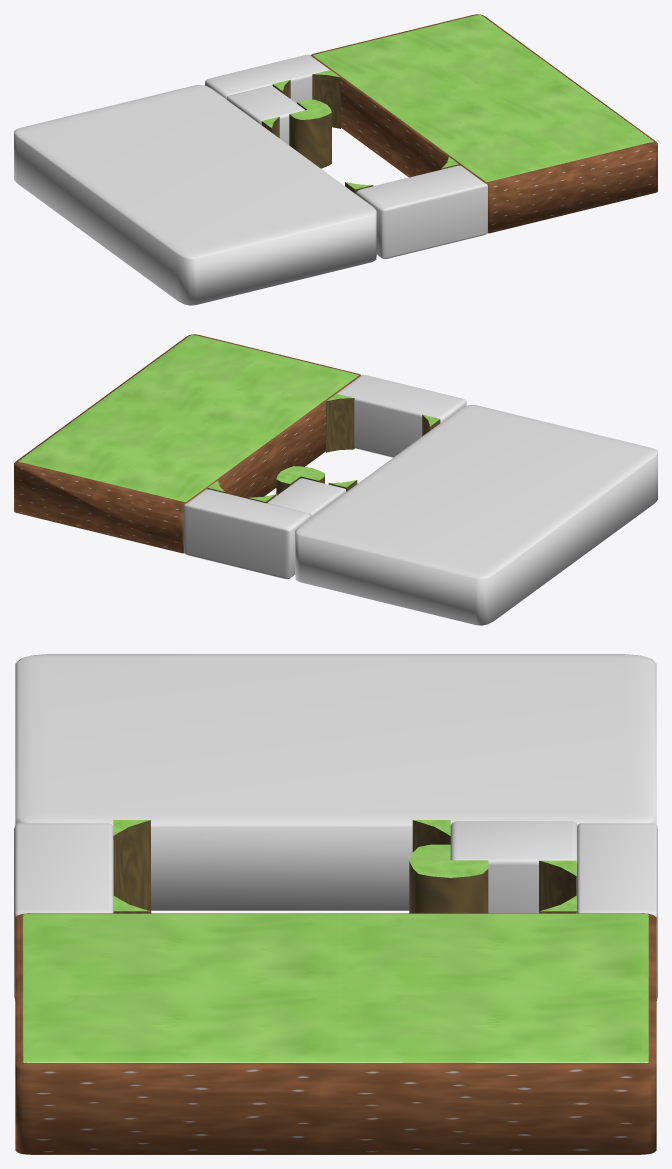
Rendered from LakeAreaPiecedTogether.fbx.
3 renders of one model, top to bottom at view 1: azimuth 30°, elevation 25°; view 2: azimuth 150°, elevation 25°; view 3: azimuth 270°, elevation 25°, orthographic. The views are drawn at different scales.
Visible parts, largest first — view 1: PlatformCubeV2.002, PlatformSmoothLedgeV2, PlatformCubeV2.001, PlatformCubeV2, OuterCorner, PlatformCubeV2.003, Corner; view 2: PlatformCubeV2.002, PlatformSmoothLedgeV2, PlatformCubeV2, PlatformCubeV2.001, PlatformCubeV2.003, Corner.001, OuterCorner; view 3: PlatformSmoothLedgeV2, PlatformCubeV2.002, PlatformCubeV2.001, PlatformCubeV2.003, PlatformCubeV2, OuterCorner, Corner.004, Corner.002, Corner.003.
Part boxes in pixels (box(x1,y1,x2,y2)): PlatformCubeV2.002: box(14, 85, 376, 305); PlatformSmoothLedgeV2: box(311, 14, 657, 233); PlatformCubeV2.001: box(356, 165, 487, 258); PlatformCubeV2: box(205, 54, 329, 103); OuterCorner: box(289, 99, 331, 168); PlatformCubeV2.003: box(226, 85, 304, 144); Corner: box(312, 70, 340, 128); PlatformCubeV2.002: box(295, 405, 657, 625); PlatformSmoothLedgeV2: box(14, 334, 360, 553); PlatformCubeV2: box(183, 489, 310, 579); PlatformCubeV2.001: box(337, 375, 466, 457); PlatformCubeV2.003: box(267, 478, 346, 517); Corner.001: box(326, 393, 354, 452); OuterCorner: box(276, 466, 324, 495); PlatformSmoothLedgeV2: box(15, 913, 656, 1154); PlatformCubeV2.002: box(15, 654, 656, 910); PlatformCubeV2.001: box(14, 823, 113, 1000); PlatformCubeV2.003: box(450, 821, 577, 913); PlatformCubeV2: box(577, 823, 657, 1000); OuterCorner: box(409, 844, 488, 913); Corner.004: box(113, 820, 150, 911); Corner.002: box(539, 860, 576, 911); Corner.003: box(412, 820, 450, 852).
Bounding box in the file's own units: 52230 × 5529 × 34132.
